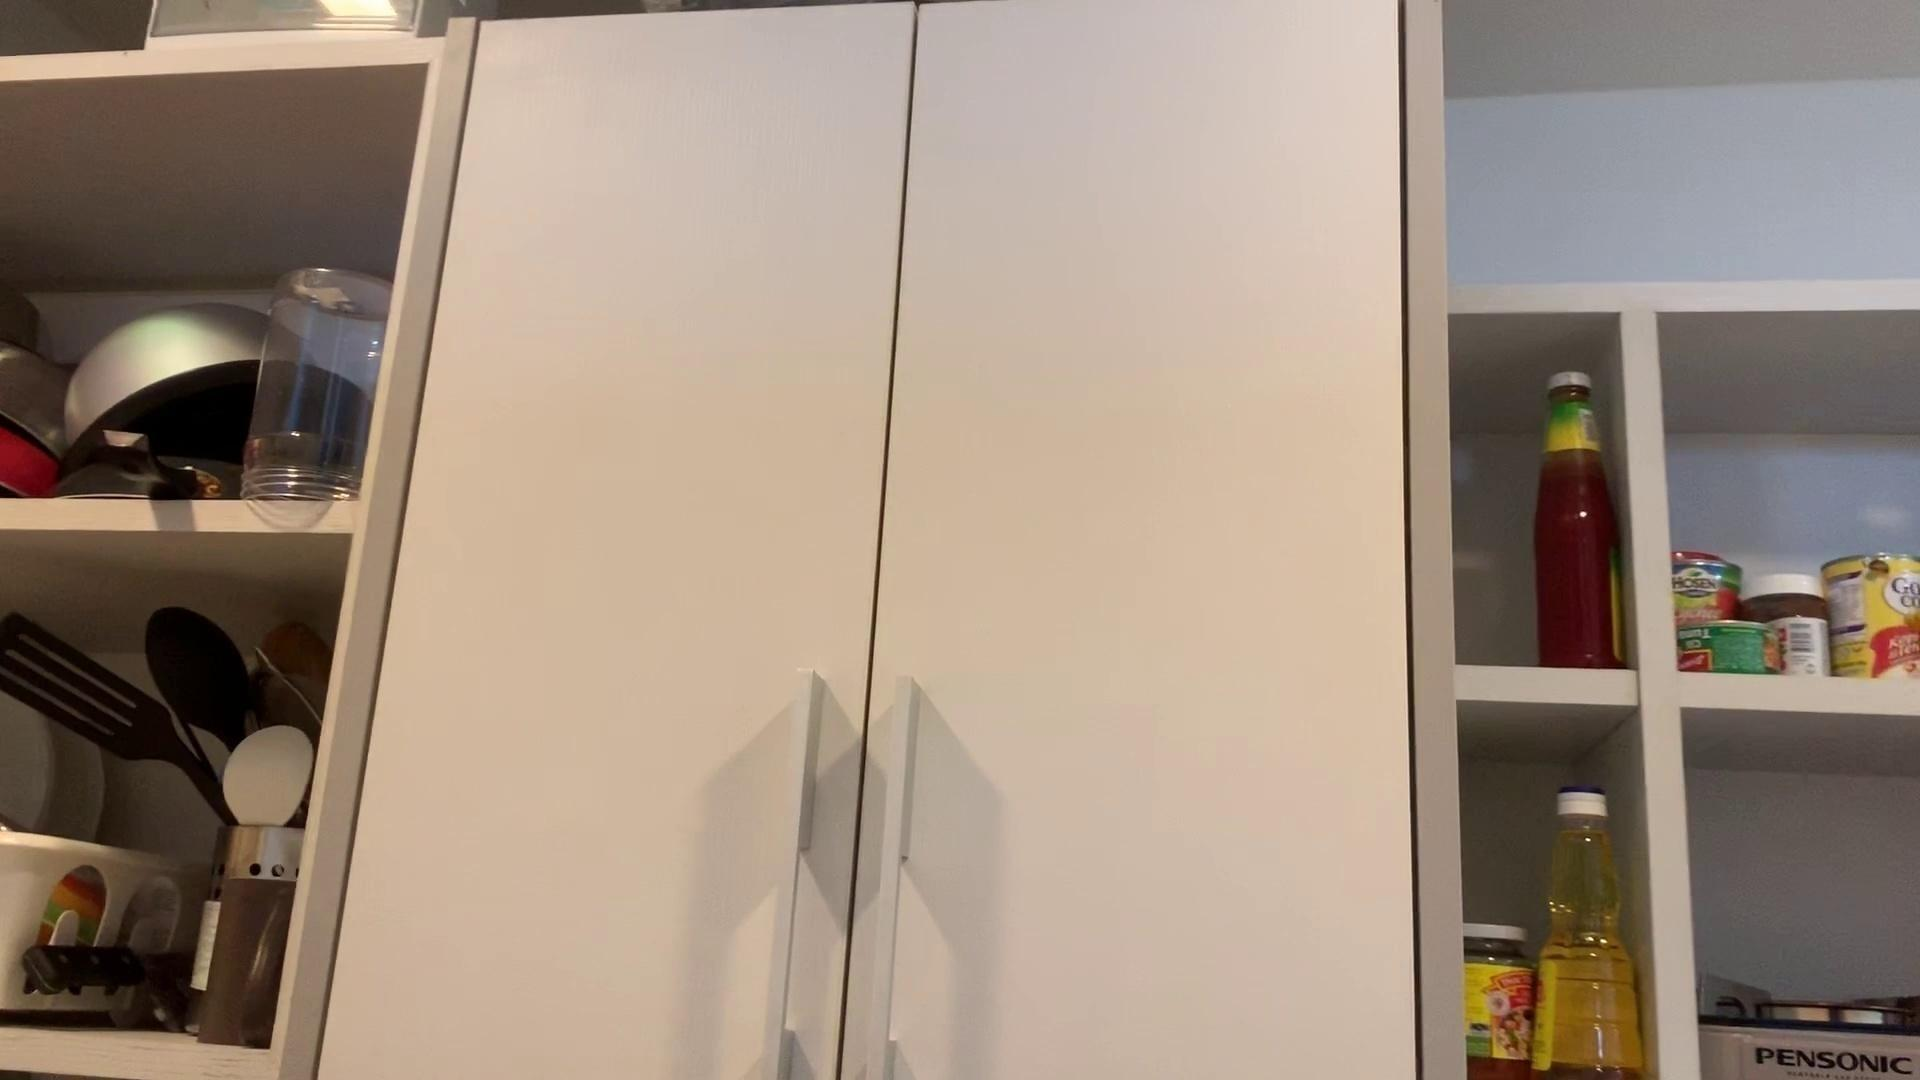cabinet_door: (855, 0, 1408, 1077), (426, 13, 851, 1080)
handle: (740, 657, 828, 1080), (848, 665, 930, 1080)
